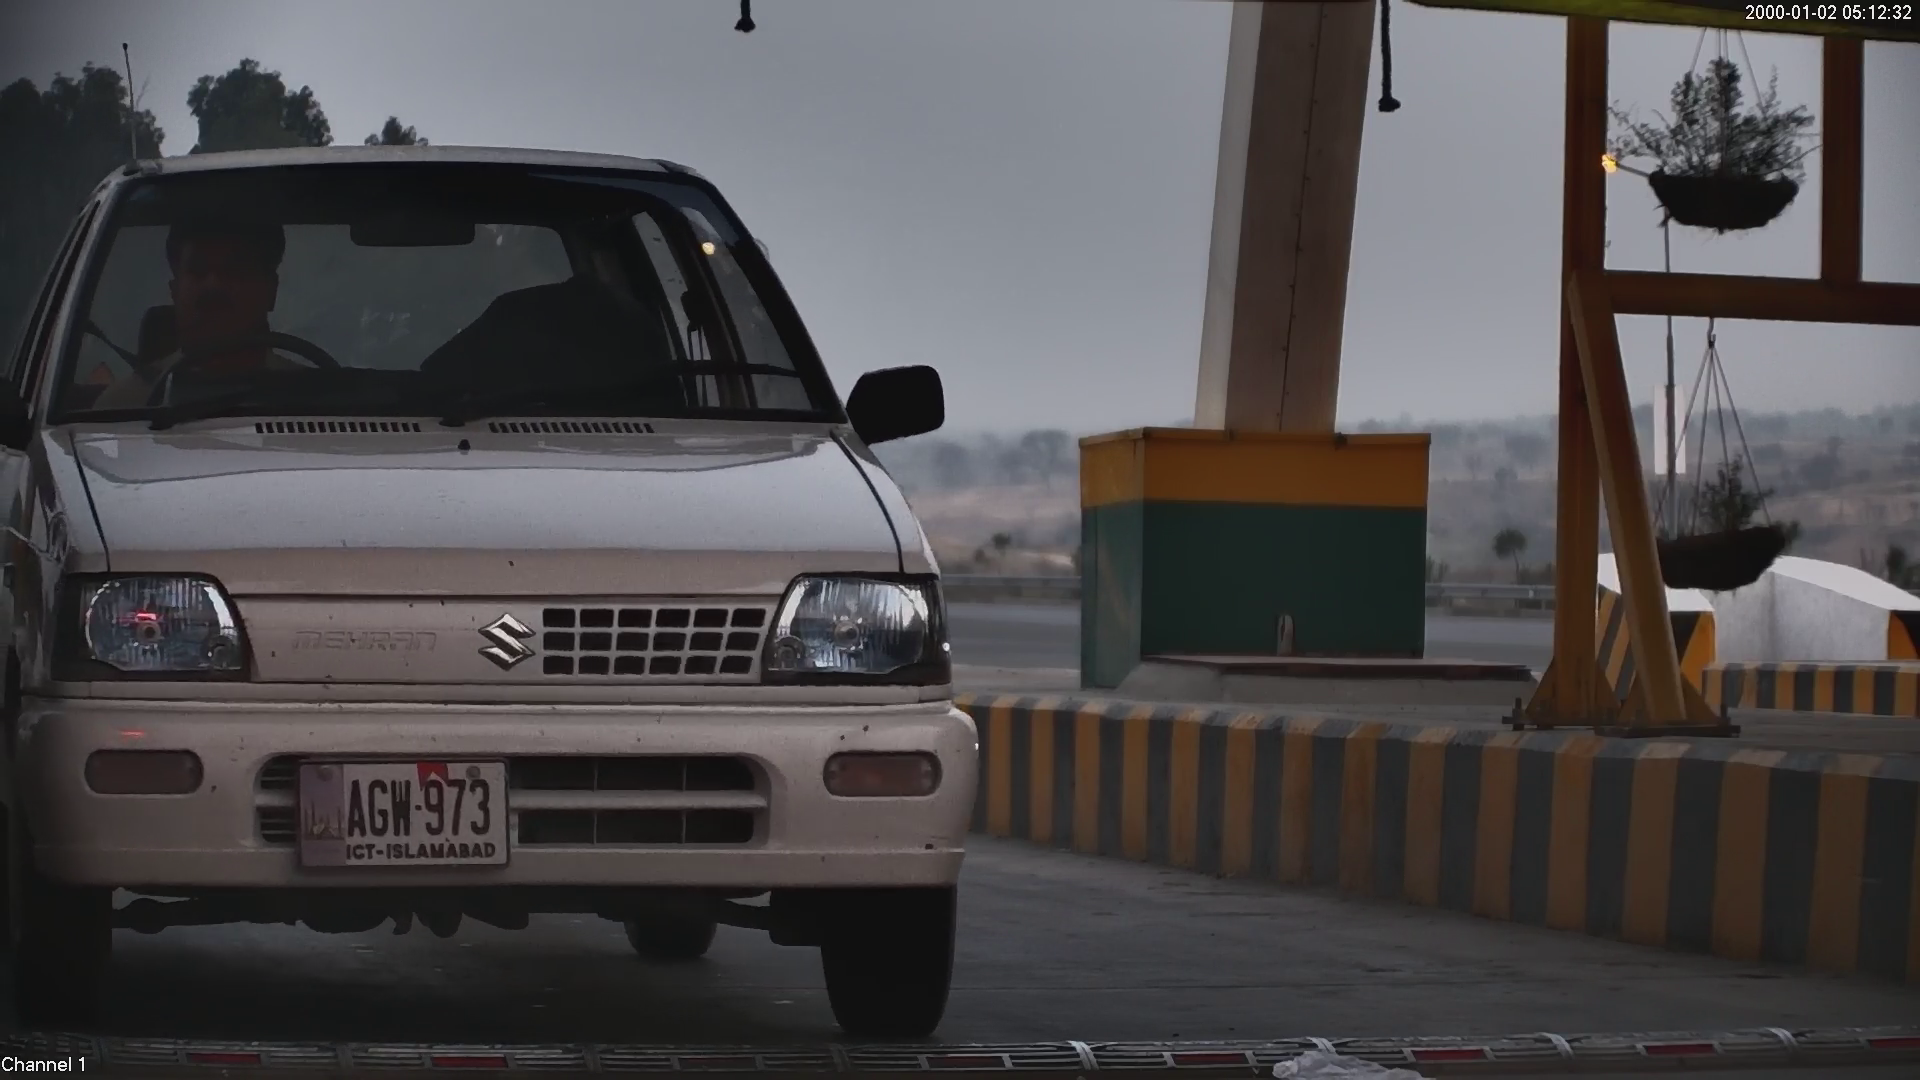Number_Plate: (284, 742, 524, 886)
